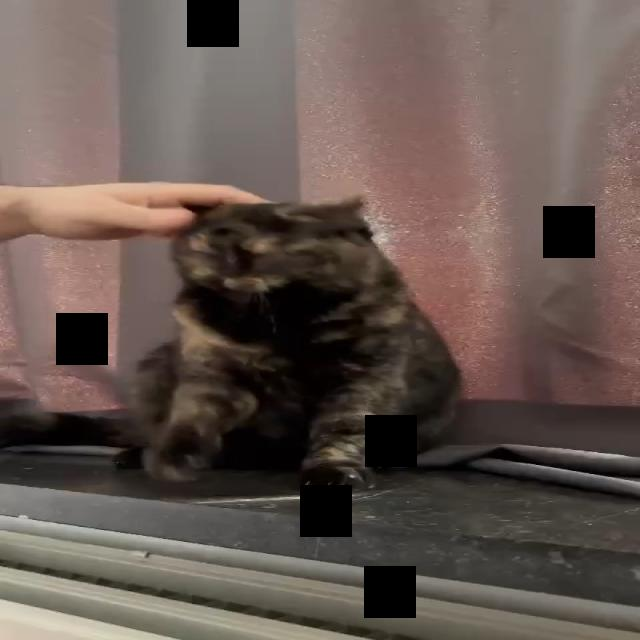authorized: (120, 194, 463, 493)
